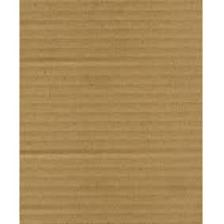cardboard: (21, 0, 204, 224)
